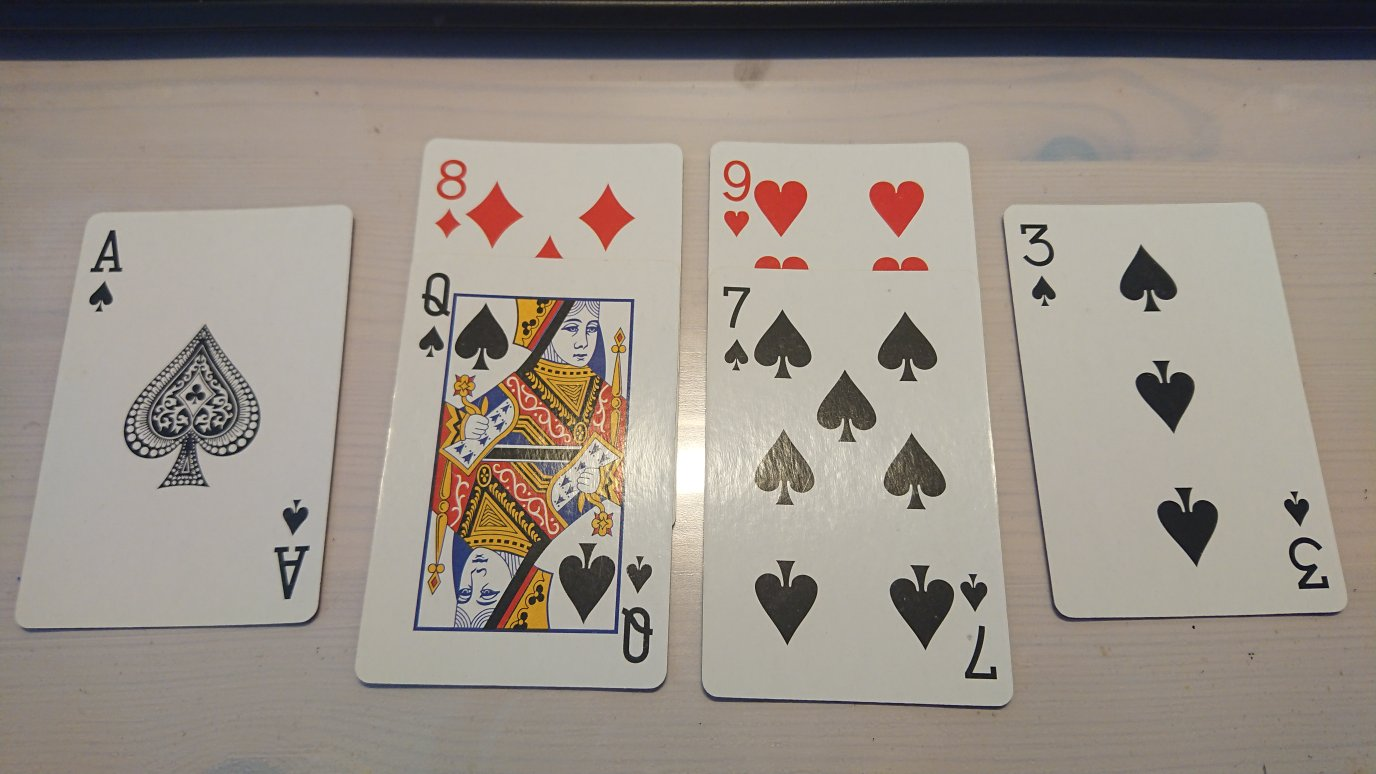3S: (1014, 218, 1065, 312)
7S: (714, 280, 756, 375)
8D: (428, 154, 471, 241)
9H: (717, 156, 754, 241)
AS: (84, 225, 125, 318)
QS: (416, 268, 455, 362)
